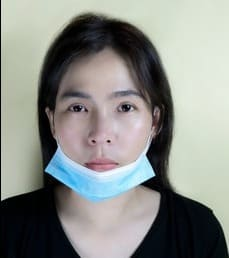with_incorrect_mask: (55, 56, 154, 198)
